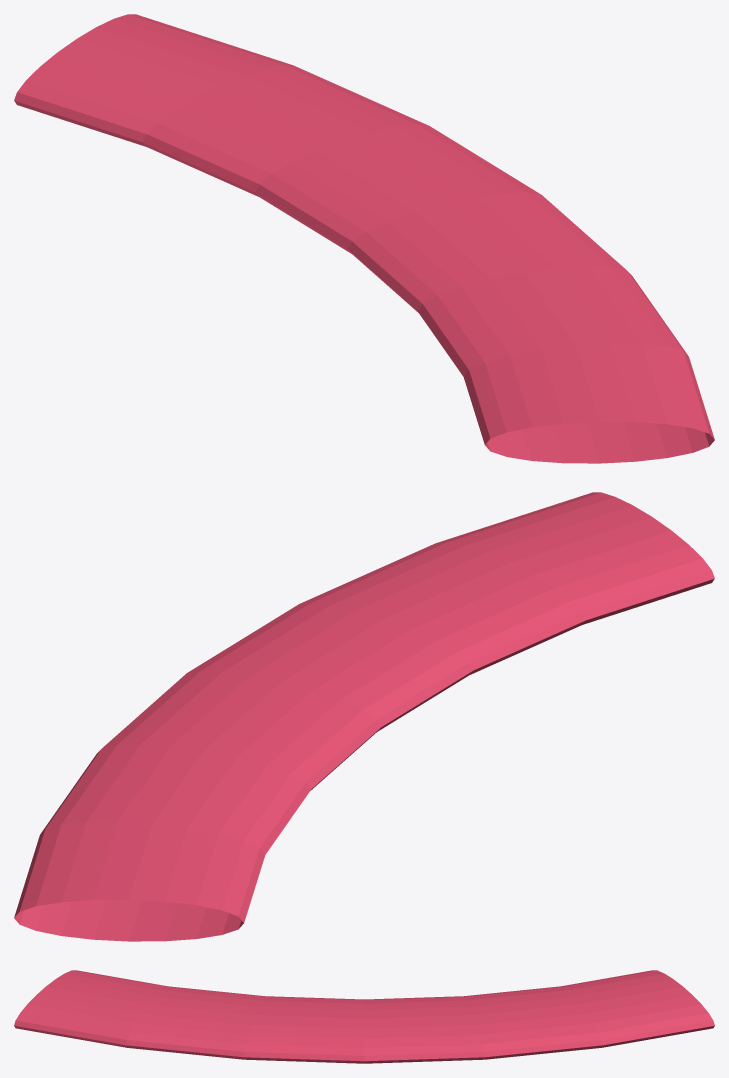
The model's file is marker.dae.
3 views of the same model, one above another, from view 1: azimuth 30°, elevation 25°; view 2: azimuth 150°, elevation 25°; view 3: azimuth 270°, elevation 25° (orthographic). The views are drawn at different scales.
Parts seen in each view (by area): view 1: Heading; view 2: Heading; view 3: Heading.
Boxes of the visible parts, bbox=[...] form: Heading: bbox=[14, 14, 714, 463]; Heading: bbox=[14, 492, 714, 941]; Heading: bbox=[14, 970, 714, 1063].
Size of what is drawn, in the model's own units: 0.149 by 0.4994 by 0.02.
